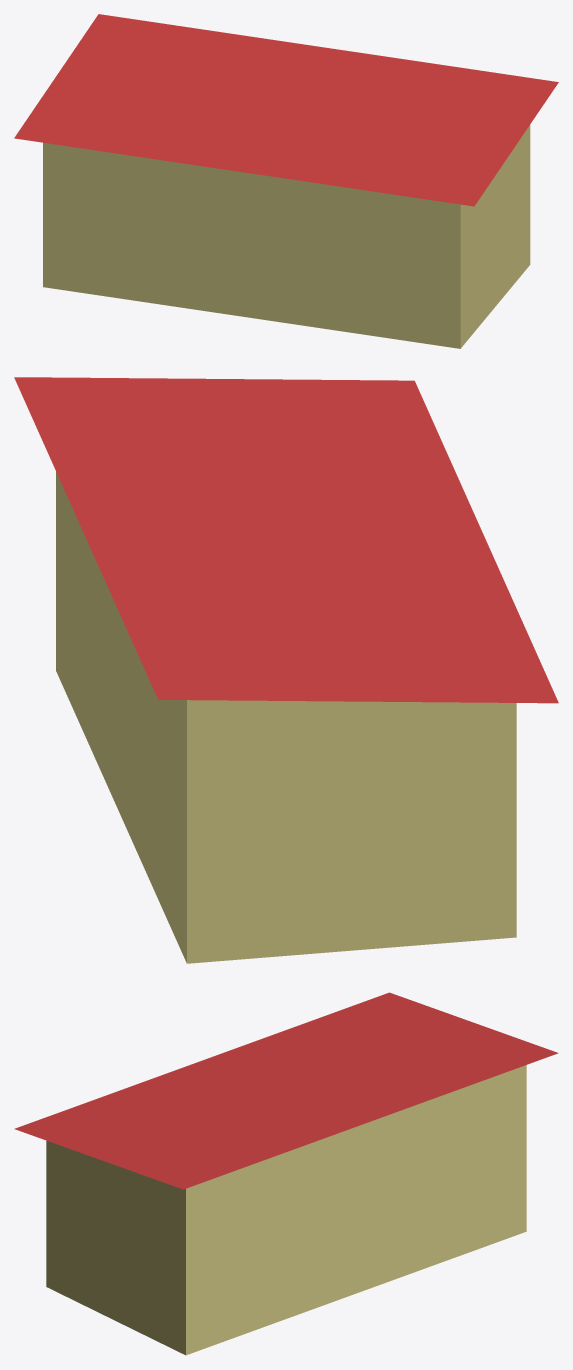
3 renders of one model, top to bottom at view 1: azimuth 30°, elevation 25°; view 2: azimuth 150°, elevation 25°; view 3: azimuth 270°, elevation 25°, orthographic. The views are drawn at different scales.
Visible parts, largest first — view 1: group_5, group_3, group_4; view 2: group_3, group_5, group_4; view 3: group_5, group_3, group_4.
Boxes of the visible parts, x1,y1,x2,y2 form: group_5: (43,125,530,348); group_3: (14,14,558,205); group_4: (17,128,504,206); group_3: (14,377,558,703); group_5: (56,472,516,963); group_4: (55,378,558,702); group_5: (46,1065,526,1355); group_3: (15,992,558,1189); group_4: (14,993,386,1158).
Size of the model in its own units: 16.96 by 17.78 by 6.46.
